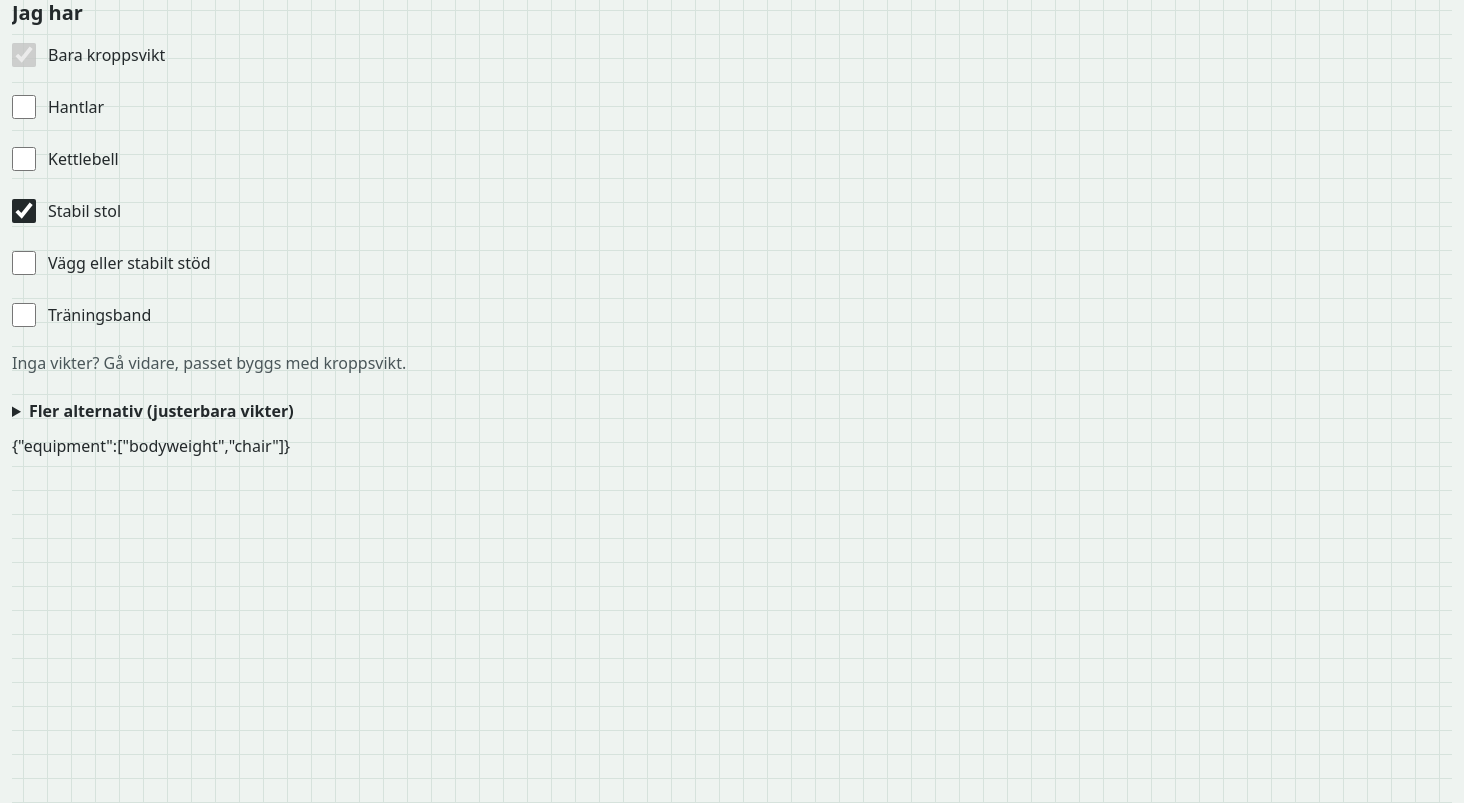
Scenario: EquipmentInventory › Enter adds, 1 st is the kettlebell default and Avbryt closes without adding
Click the checkbox labelled "Kettlebell": (24, 159) [12,147,36,171]
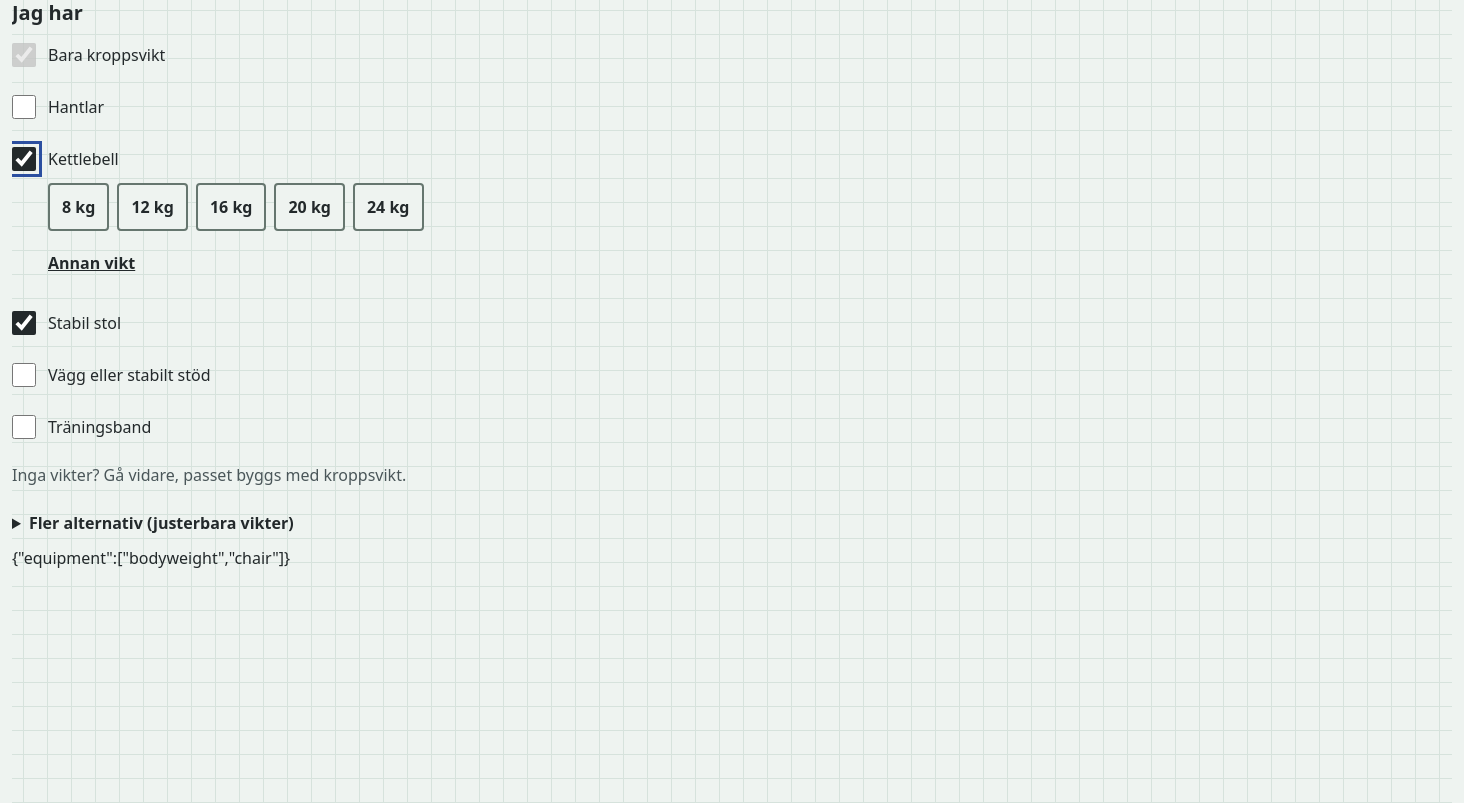
Click the button with aria-label "Annan vikt, kettlebell": (92, 263) [48,239,135,287]
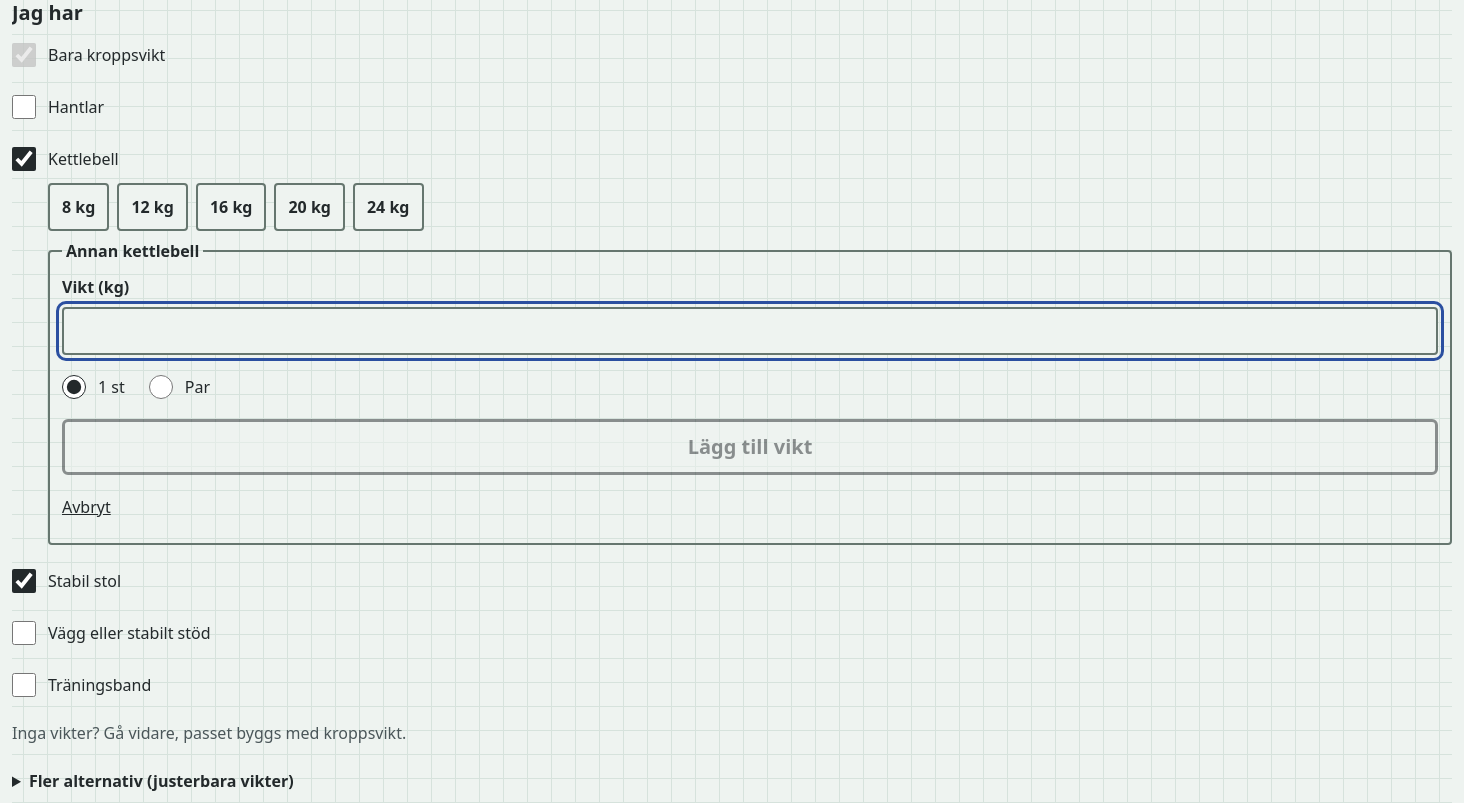
In the field labelled "Vikt (kg)": (750, 331) [62,307,1438,355], type "14"
Then press Enter
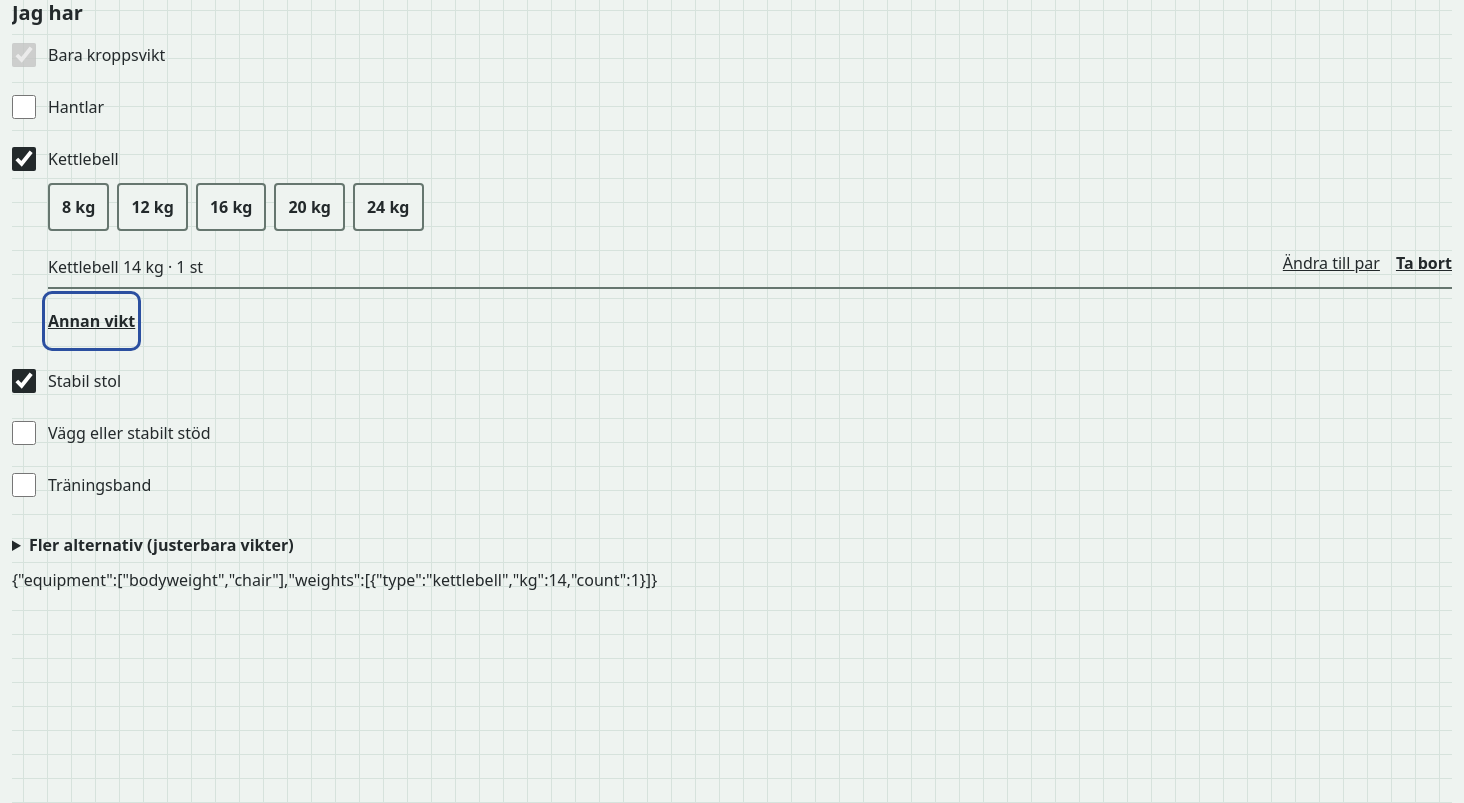
Click the button with aria-label "Annan vikt, kettlebell": (92, 321) [48,297,135,345]
(page scrolled)
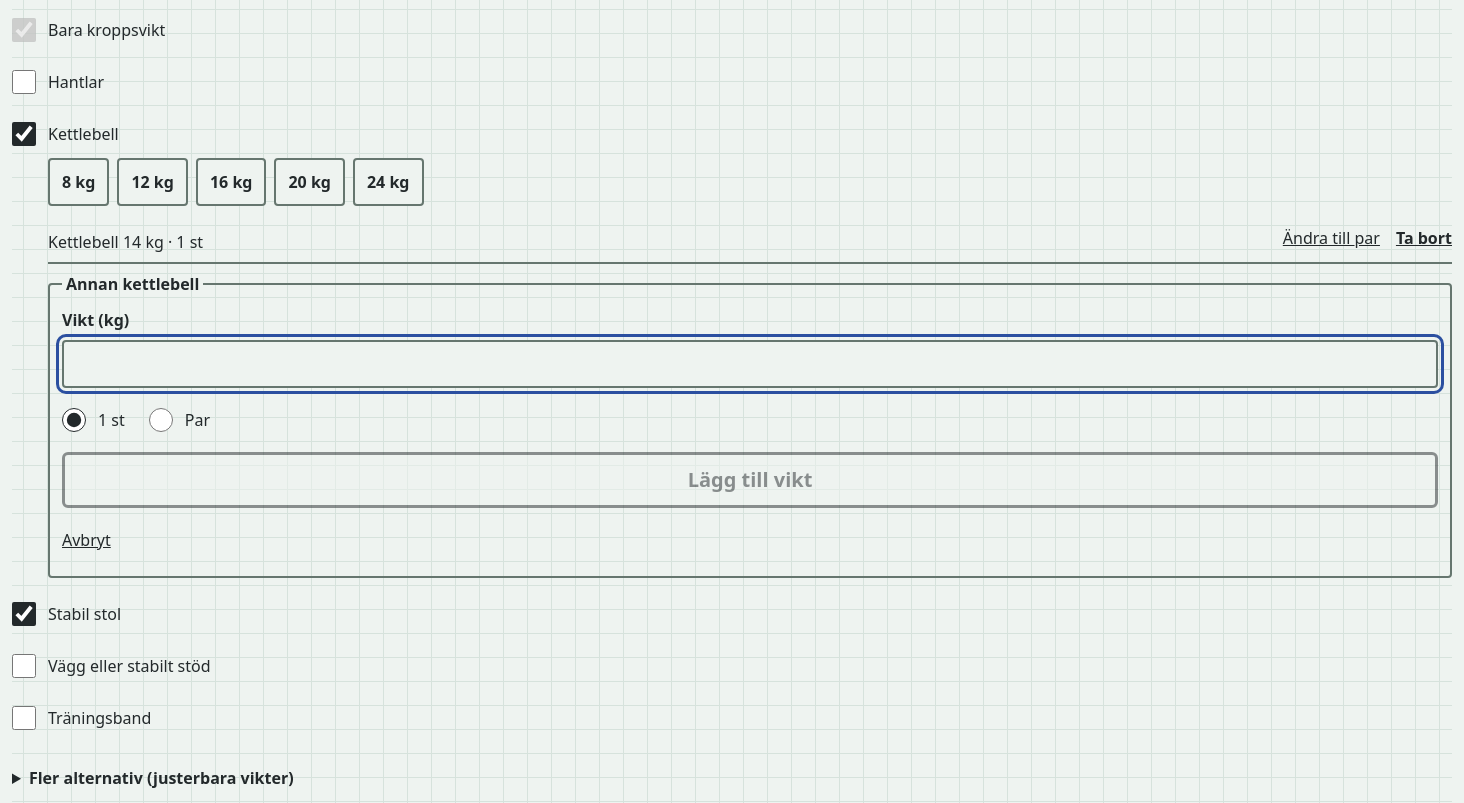
Click the button "Avbryt": (86, 540) [62,516,111,564]
(page scrolled)
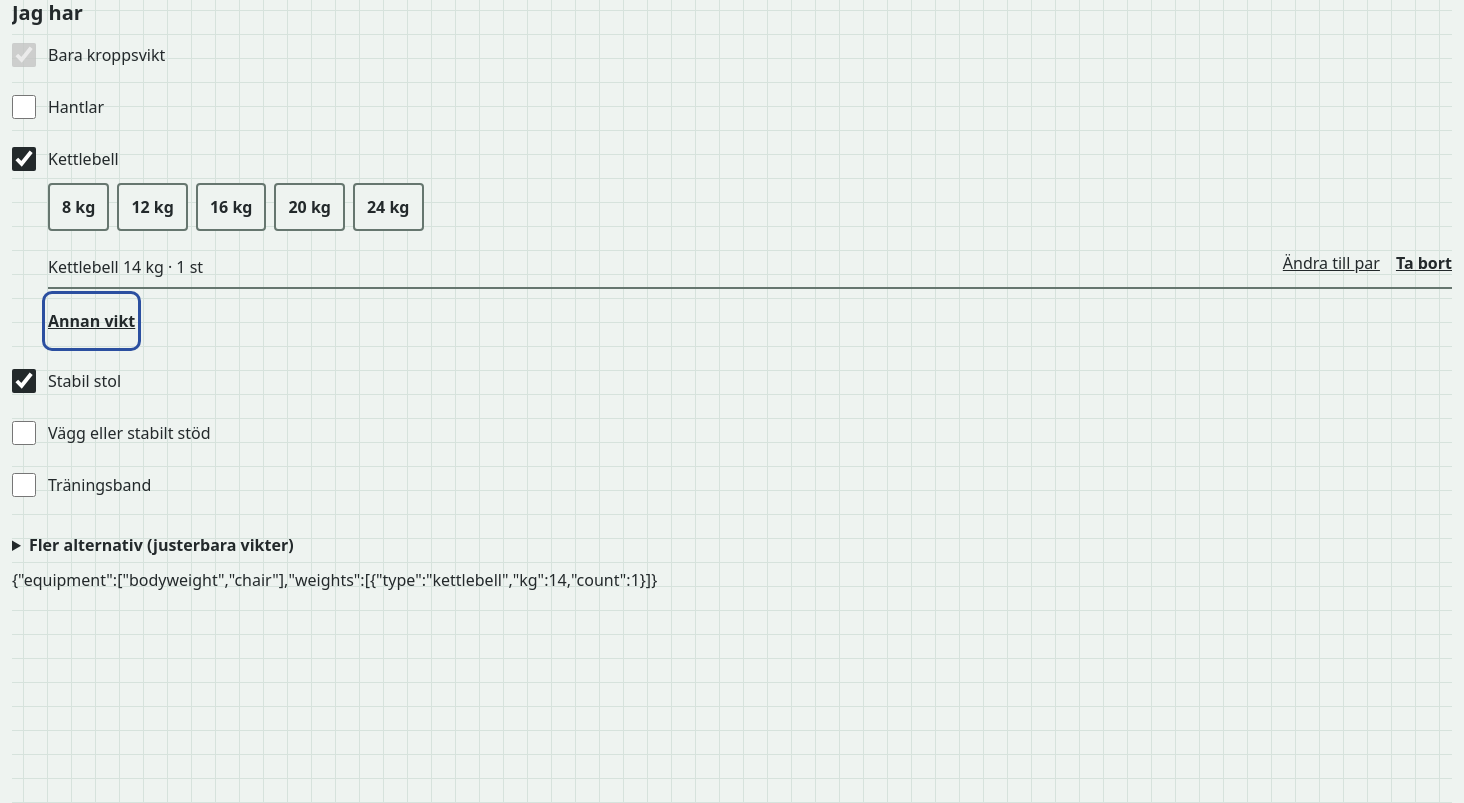
Expected: the label labelled "Vikt (kg)" is gone
